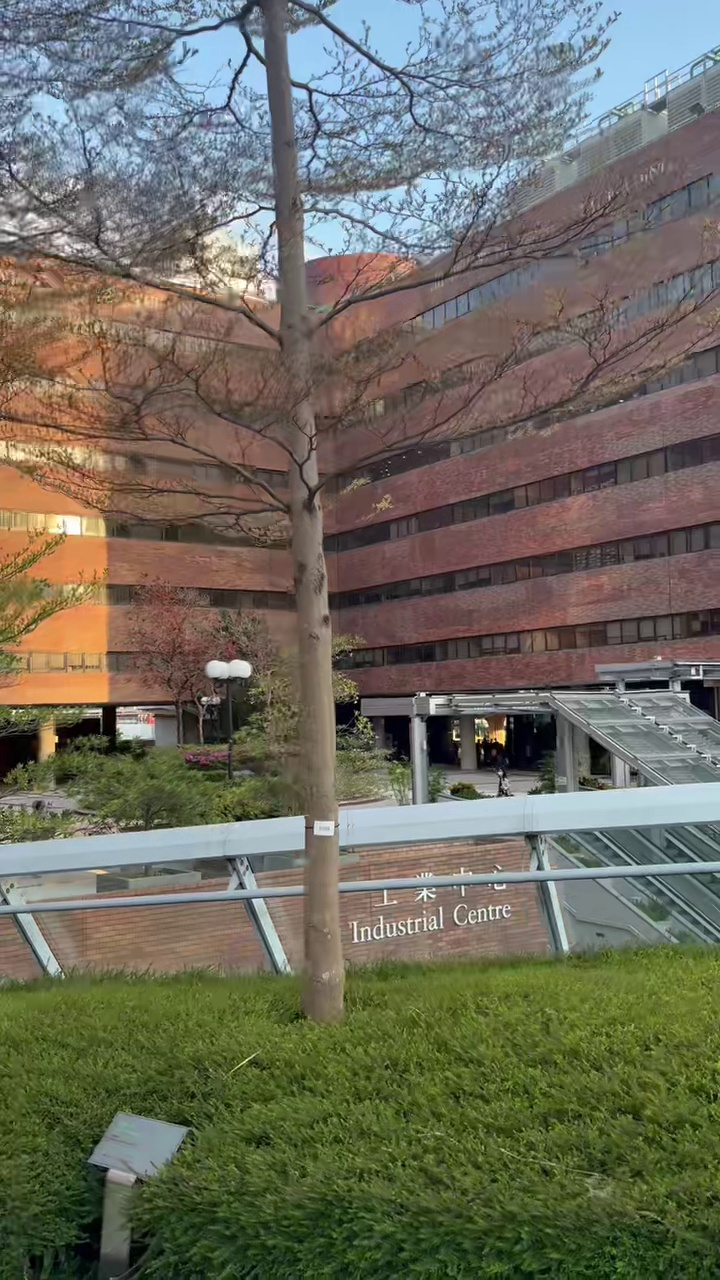Terminalia mantaly: (9, 0, 621, 1020)
